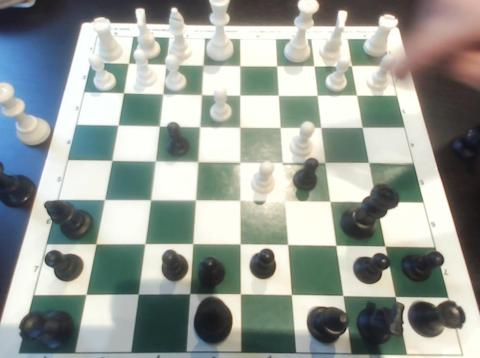xcorner: (371, 194, 385, 208), (364, 154, 378, 168), (346, 56, 360, 70), (337, 289, 351, 303), (325, 194, 339, 208), (316, 118, 330, 132), (312, 85, 326, 99), (309, 56, 323, 70), (285, 289, 299, 303), (275, 118, 289, 132), (273, 85, 287, 99), (271, 56, 285, 70), (233, 289, 247, 303), (233, 238, 247, 252), (234, 85, 248, 99), (234, 56, 248, 70), (181, 289, 195, 303), (184, 238, 198, 252), (187, 193, 201, 207), (190, 153, 204, 167), (196, 56, 210, 70), (141, 193, 155, 207), (155, 85, 169, 99), (159, 56, 173, 70), (77, 288, 91, 302), (87, 238, 101, 252), (103, 153, 117, 167), (110, 117, 124, 131), (116, 85, 130, 99), (122, 56, 136, 70), (389, 290, 403, 303), (380, 239, 393, 253), (358, 118, 371, 132), (331, 239, 345, 252), (321, 154, 334, 168), (282, 239, 296, 252), (279, 194, 293, 207), (277, 154, 291, 167), (233, 194, 247, 207), (233, 154, 247, 167), (234, 118, 247, 132), (192, 118, 206, 131), (195, 85, 208, 99), (129, 289, 143, 302), (136, 238, 149, 252), (147, 153, 160, 167), (151, 118, 165, 131), (96, 193, 109, 207), (352, 86, 365, 99)
